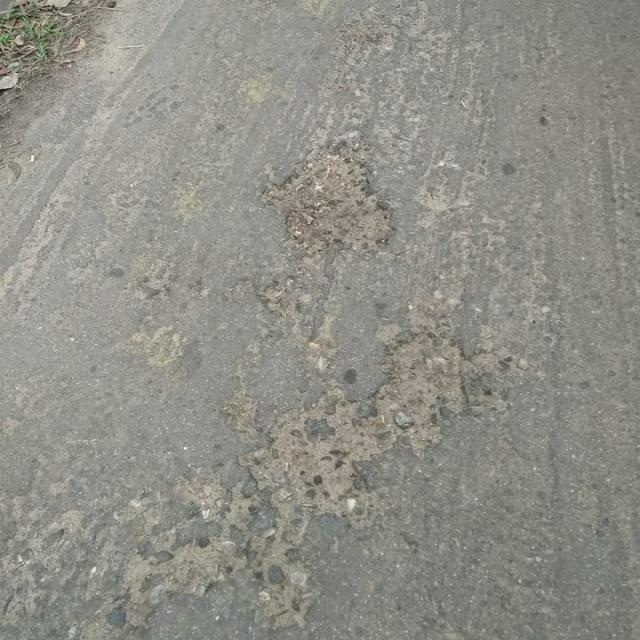Pothole: (240, 388, 372, 518), (254, 140, 396, 260), (368, 326, 473, 453)
